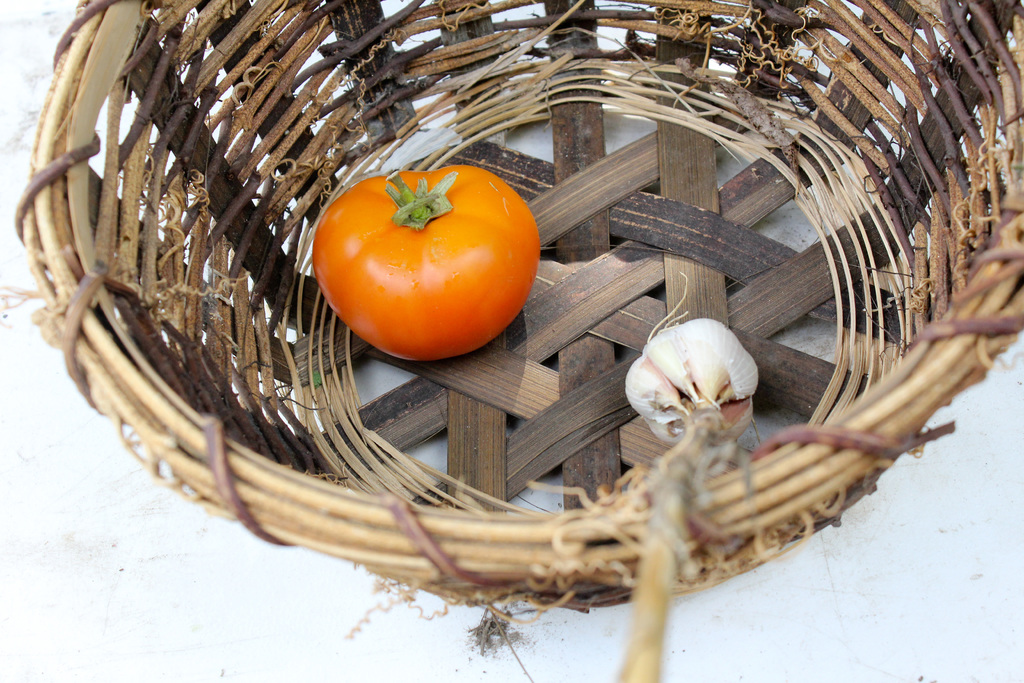Tomato: (311, 165, 540, 360)
